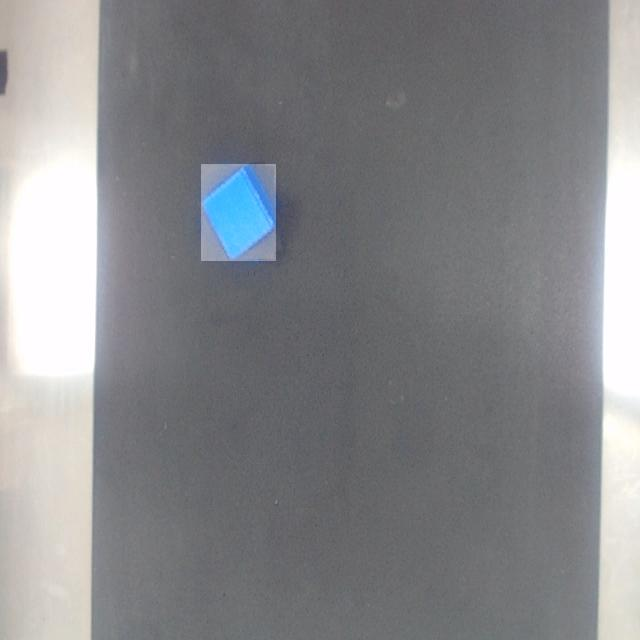Azul: (201, 164, 276, 261)
